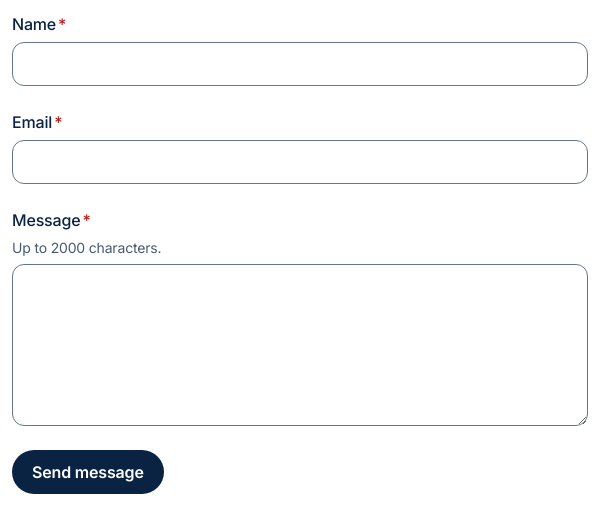
sending › replaces the form with a thank-you message on success
The width and height of the screenshot is (610, 511).
Type "Ada Lovelace" into the field labelled "Name*" at (300, 64), box [12, 42, 588, 86]
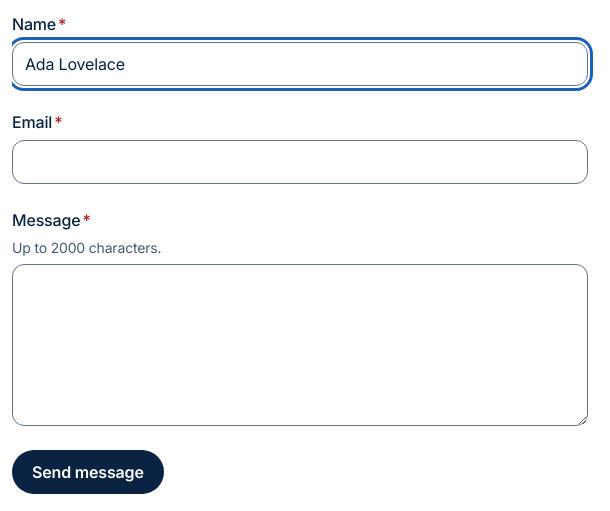
Type "ada@example.com" into the field labelled "Email*" at (300, 162), box [12, 140, 588, 184]
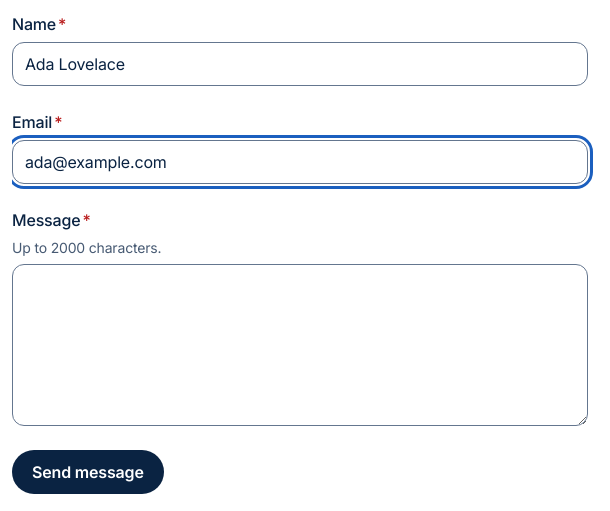
Type "I would like to discuss a project." into the text box labelled "Message*" at (300, 345), box [12, 264, 588, 426]
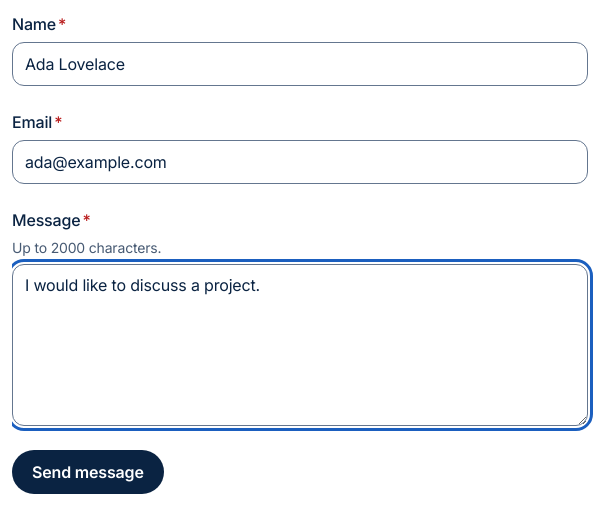
Click the button "Send message" at (88, 472), box [12, 450, 164, 494]
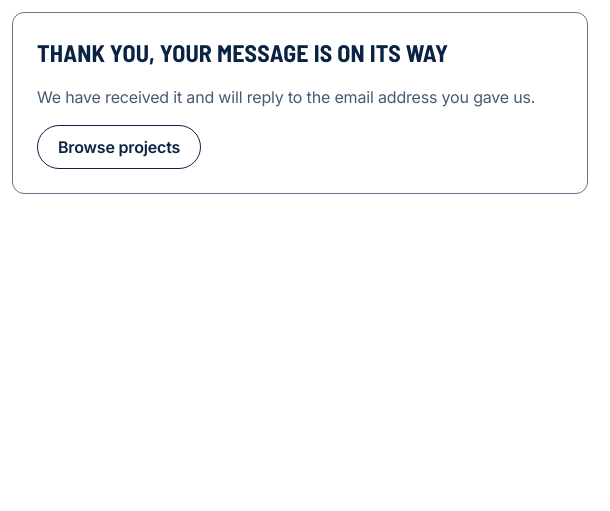
Expected: the message shows "your message is on its way", [37, 38, 448, 67]
Expected: the button "Send message" is gone
